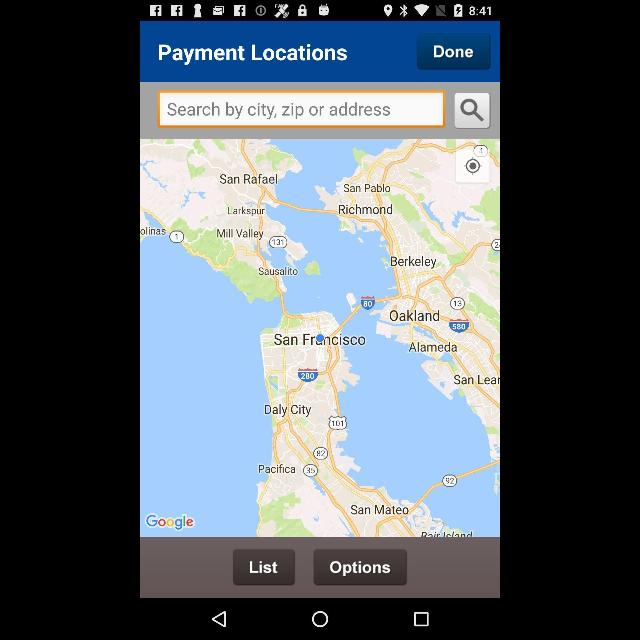icon: (454, 94, 490, 128), (462, 156, 482, 178), (210, 610, 226, 628), (312, 610, 328, 628), (414, 610, 430, 628)
input: (158, 91, 444, 125)
map: (142, 140, 498, 536)
panel: (143, 23, 497, 82), (140, 538, 498, 596), (141, 84, 499, 138), (140, 597, 500, 639)
text: (156, 38, 348, 74), (162, 97, 394, 119), (330, 559, 390, 577), (249, 560, 279, 578)
textbutton: (314, 549, 406, 585), (418, 33, 490, 69), (232, 549, 294, 585)
uppertaskbar: (142, 1, 498, 21)
